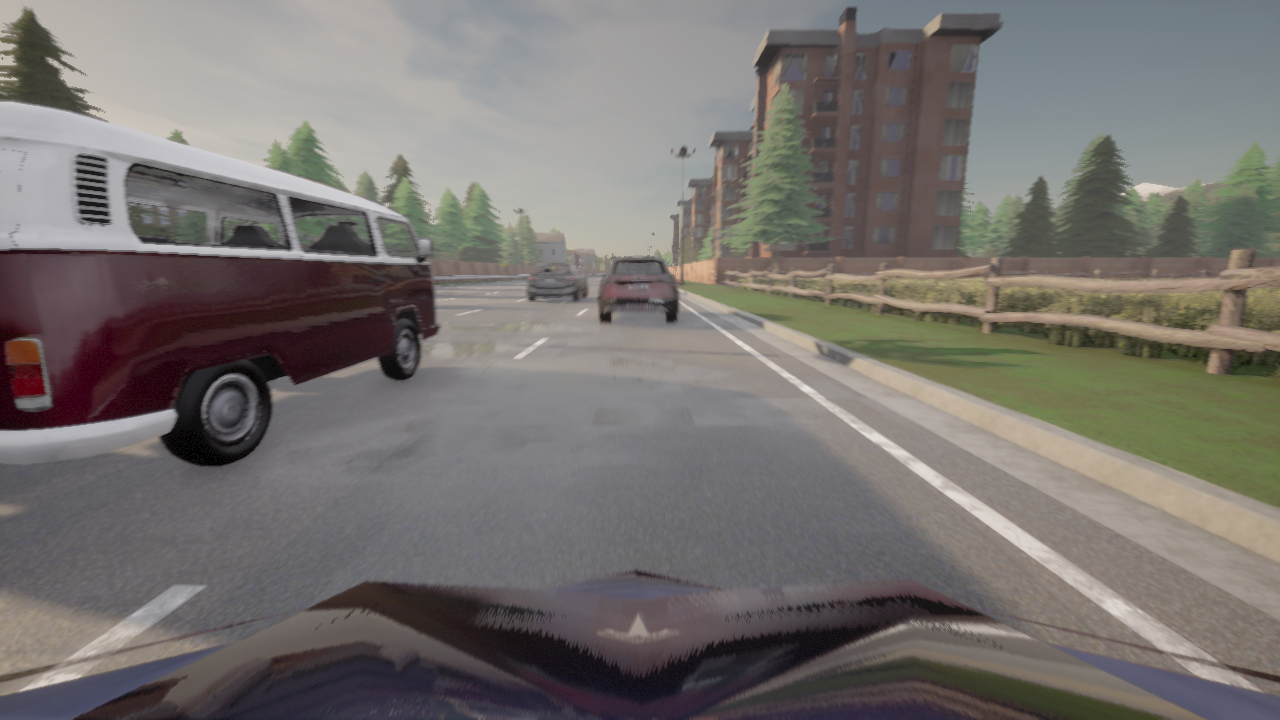cyclist: (0, 569, 1279, 719), (599, 256, 678, 322), (527, 262, 587, 301), (579, 270, 586, 280)
